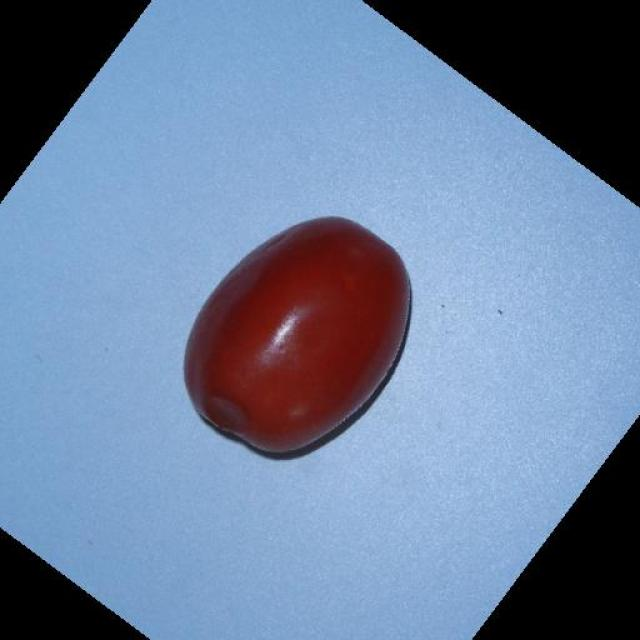Stale_tomato: (162, 250, 430, 488)
